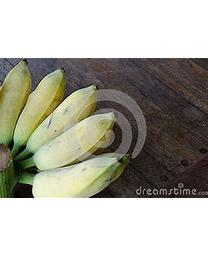banana: (0, 60, 146, 194)
